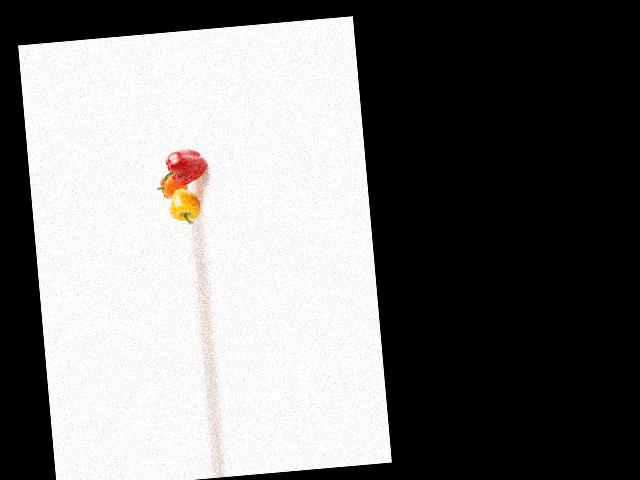bell_pepper: (156, 146, 213, 188)
